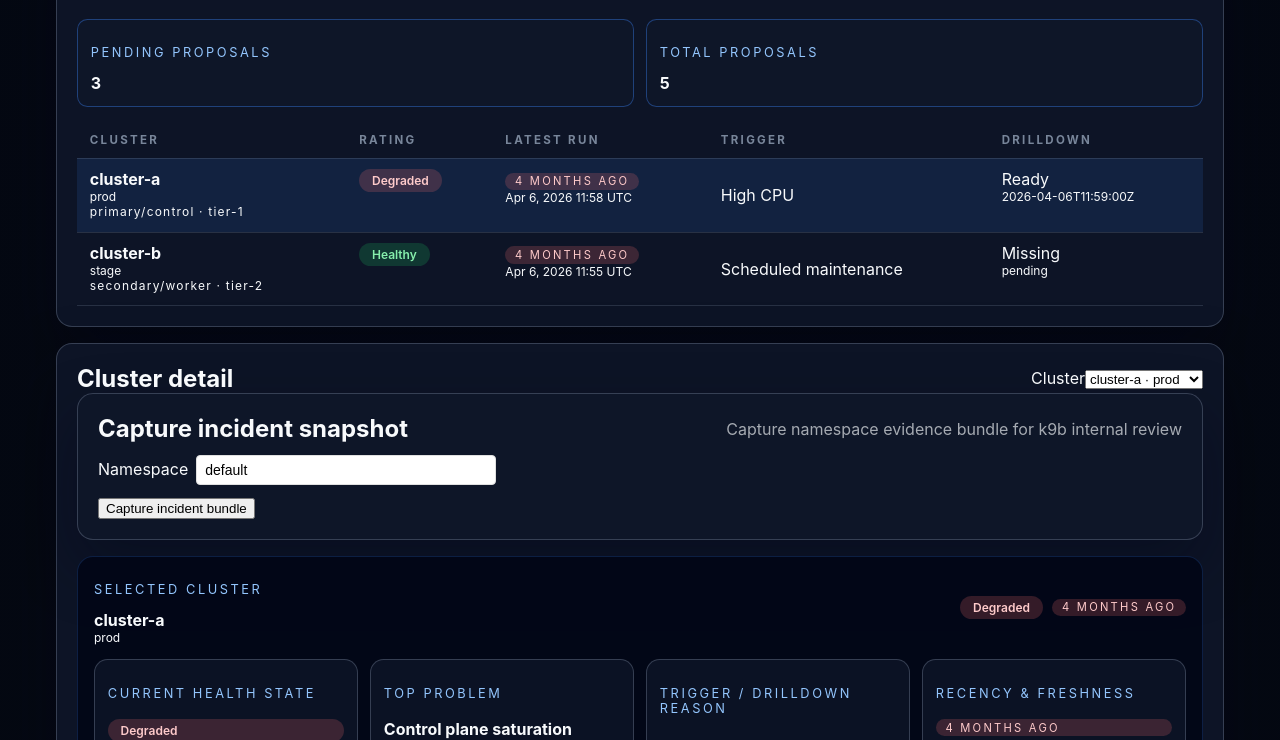
Test: Alertmanager cluster switching regression › Scenario C: Cluster switch between A and B updates both panels atomically › switching between clusters updates snapshot panel
(page scrolled)
// Switch to cluster-b
Select "cluster-b · stage" in the dropdown labelled "Cluster". click: point(1144, 380)
box: [1085,370,1203,389]
(page scrolled)
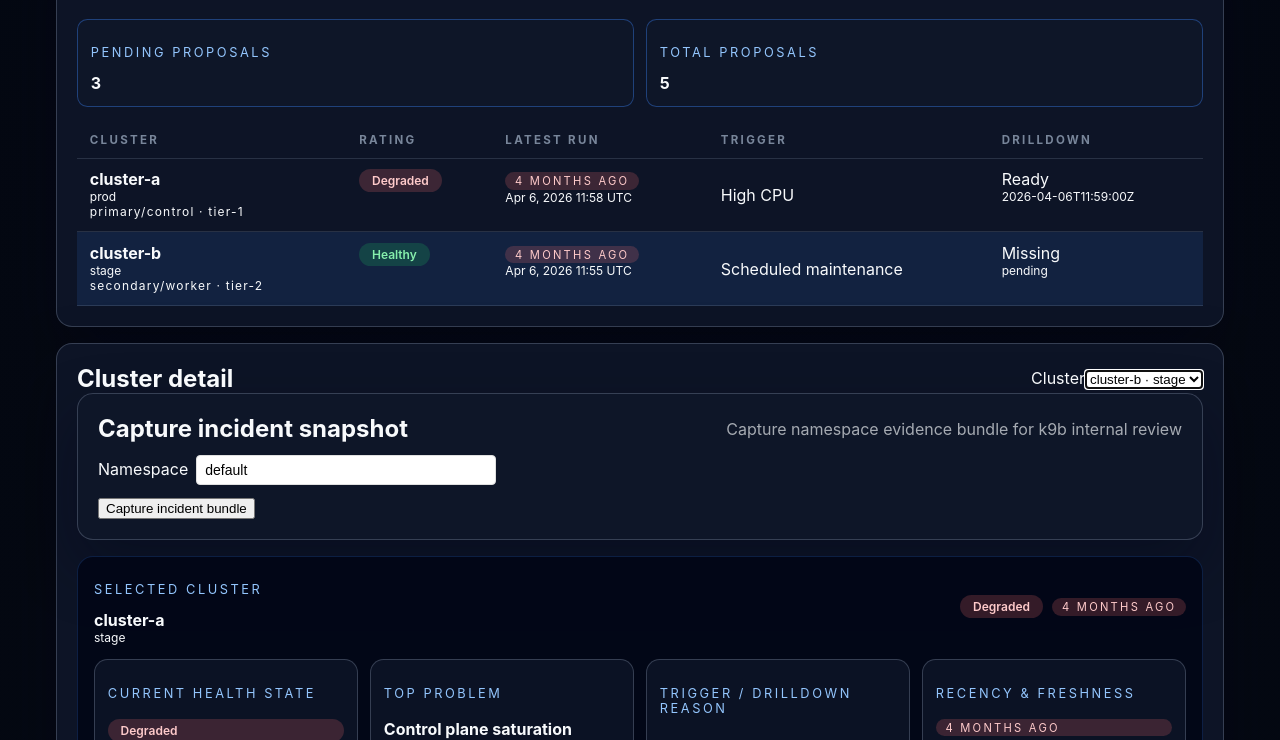
// Switch back to cluster-a
Select "cluster-a · prod" in the dropdown labelled "Cluster". click: point(1144, 380)
box: [1085,370,1203,389]
(page scrolled)
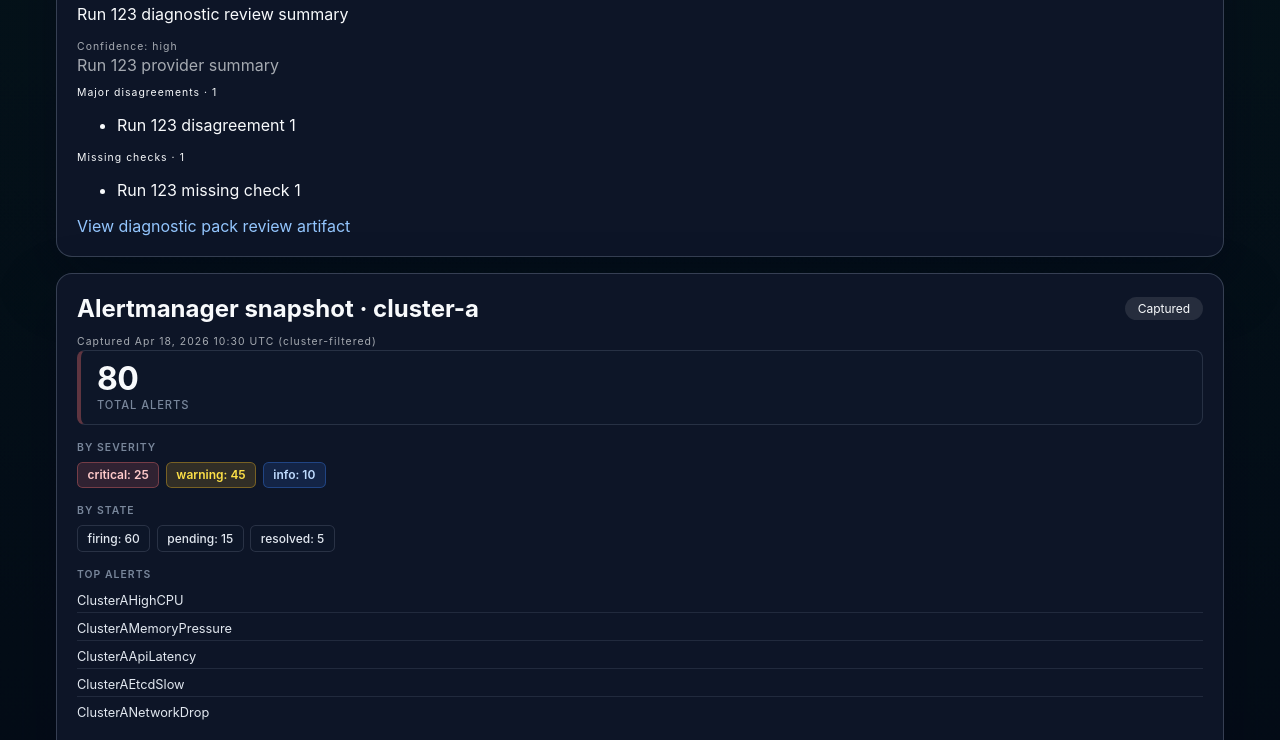
Result: the text "80" is shown at [97,363,138,395]
